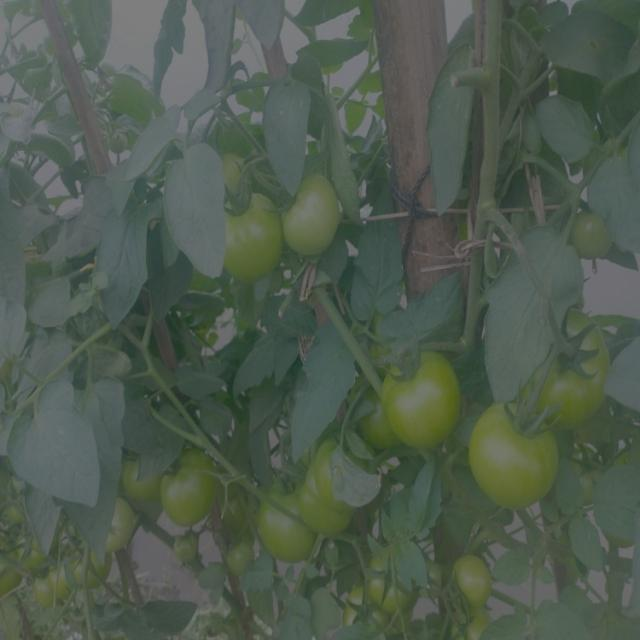tomato: (472, 399, 565, 510), (374, 346, 473, 448), (537, 314, 614, 421), (162, 436, 224, 532), (280, 171, 345, 262), (302, 442, 362, 536), (255, 472, 320, 558), (366, 552, 435, 633), (218, 193, 283, 273), (119, 437, 169, 505), (569, 201, 617, 264), (450, 549, 497, 611), (10, 509, 48, 573), (100, 504, 140, 552), (72, 545, 107, 590), (32, 574, 63, 618), (232, 546, 262, 584), (169, 535, 202, 569), (221, 154, 249, 190)
